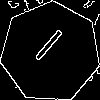I: (25, 27, 66, 71)
